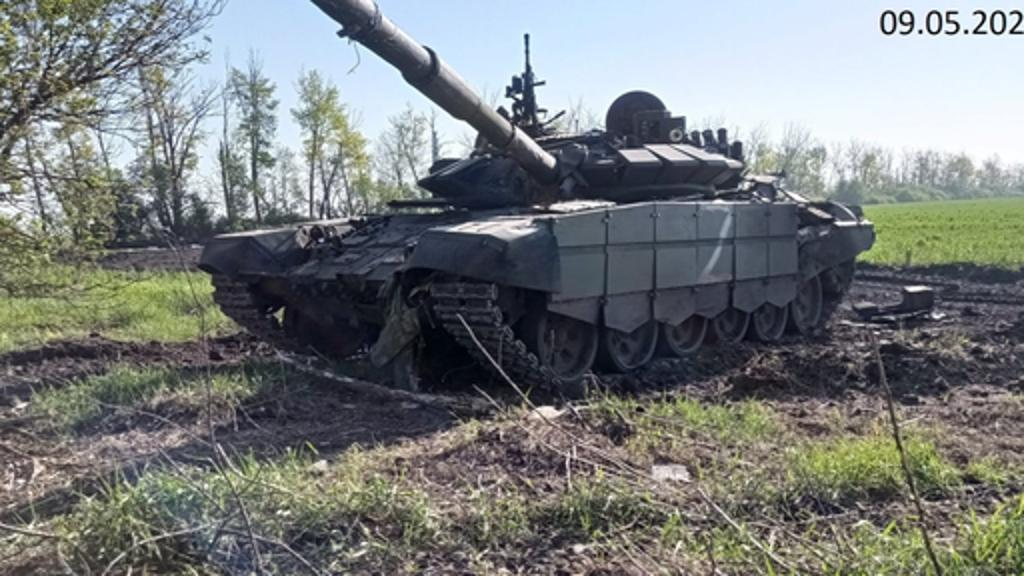TANK: (196, 2, 878, 394)
